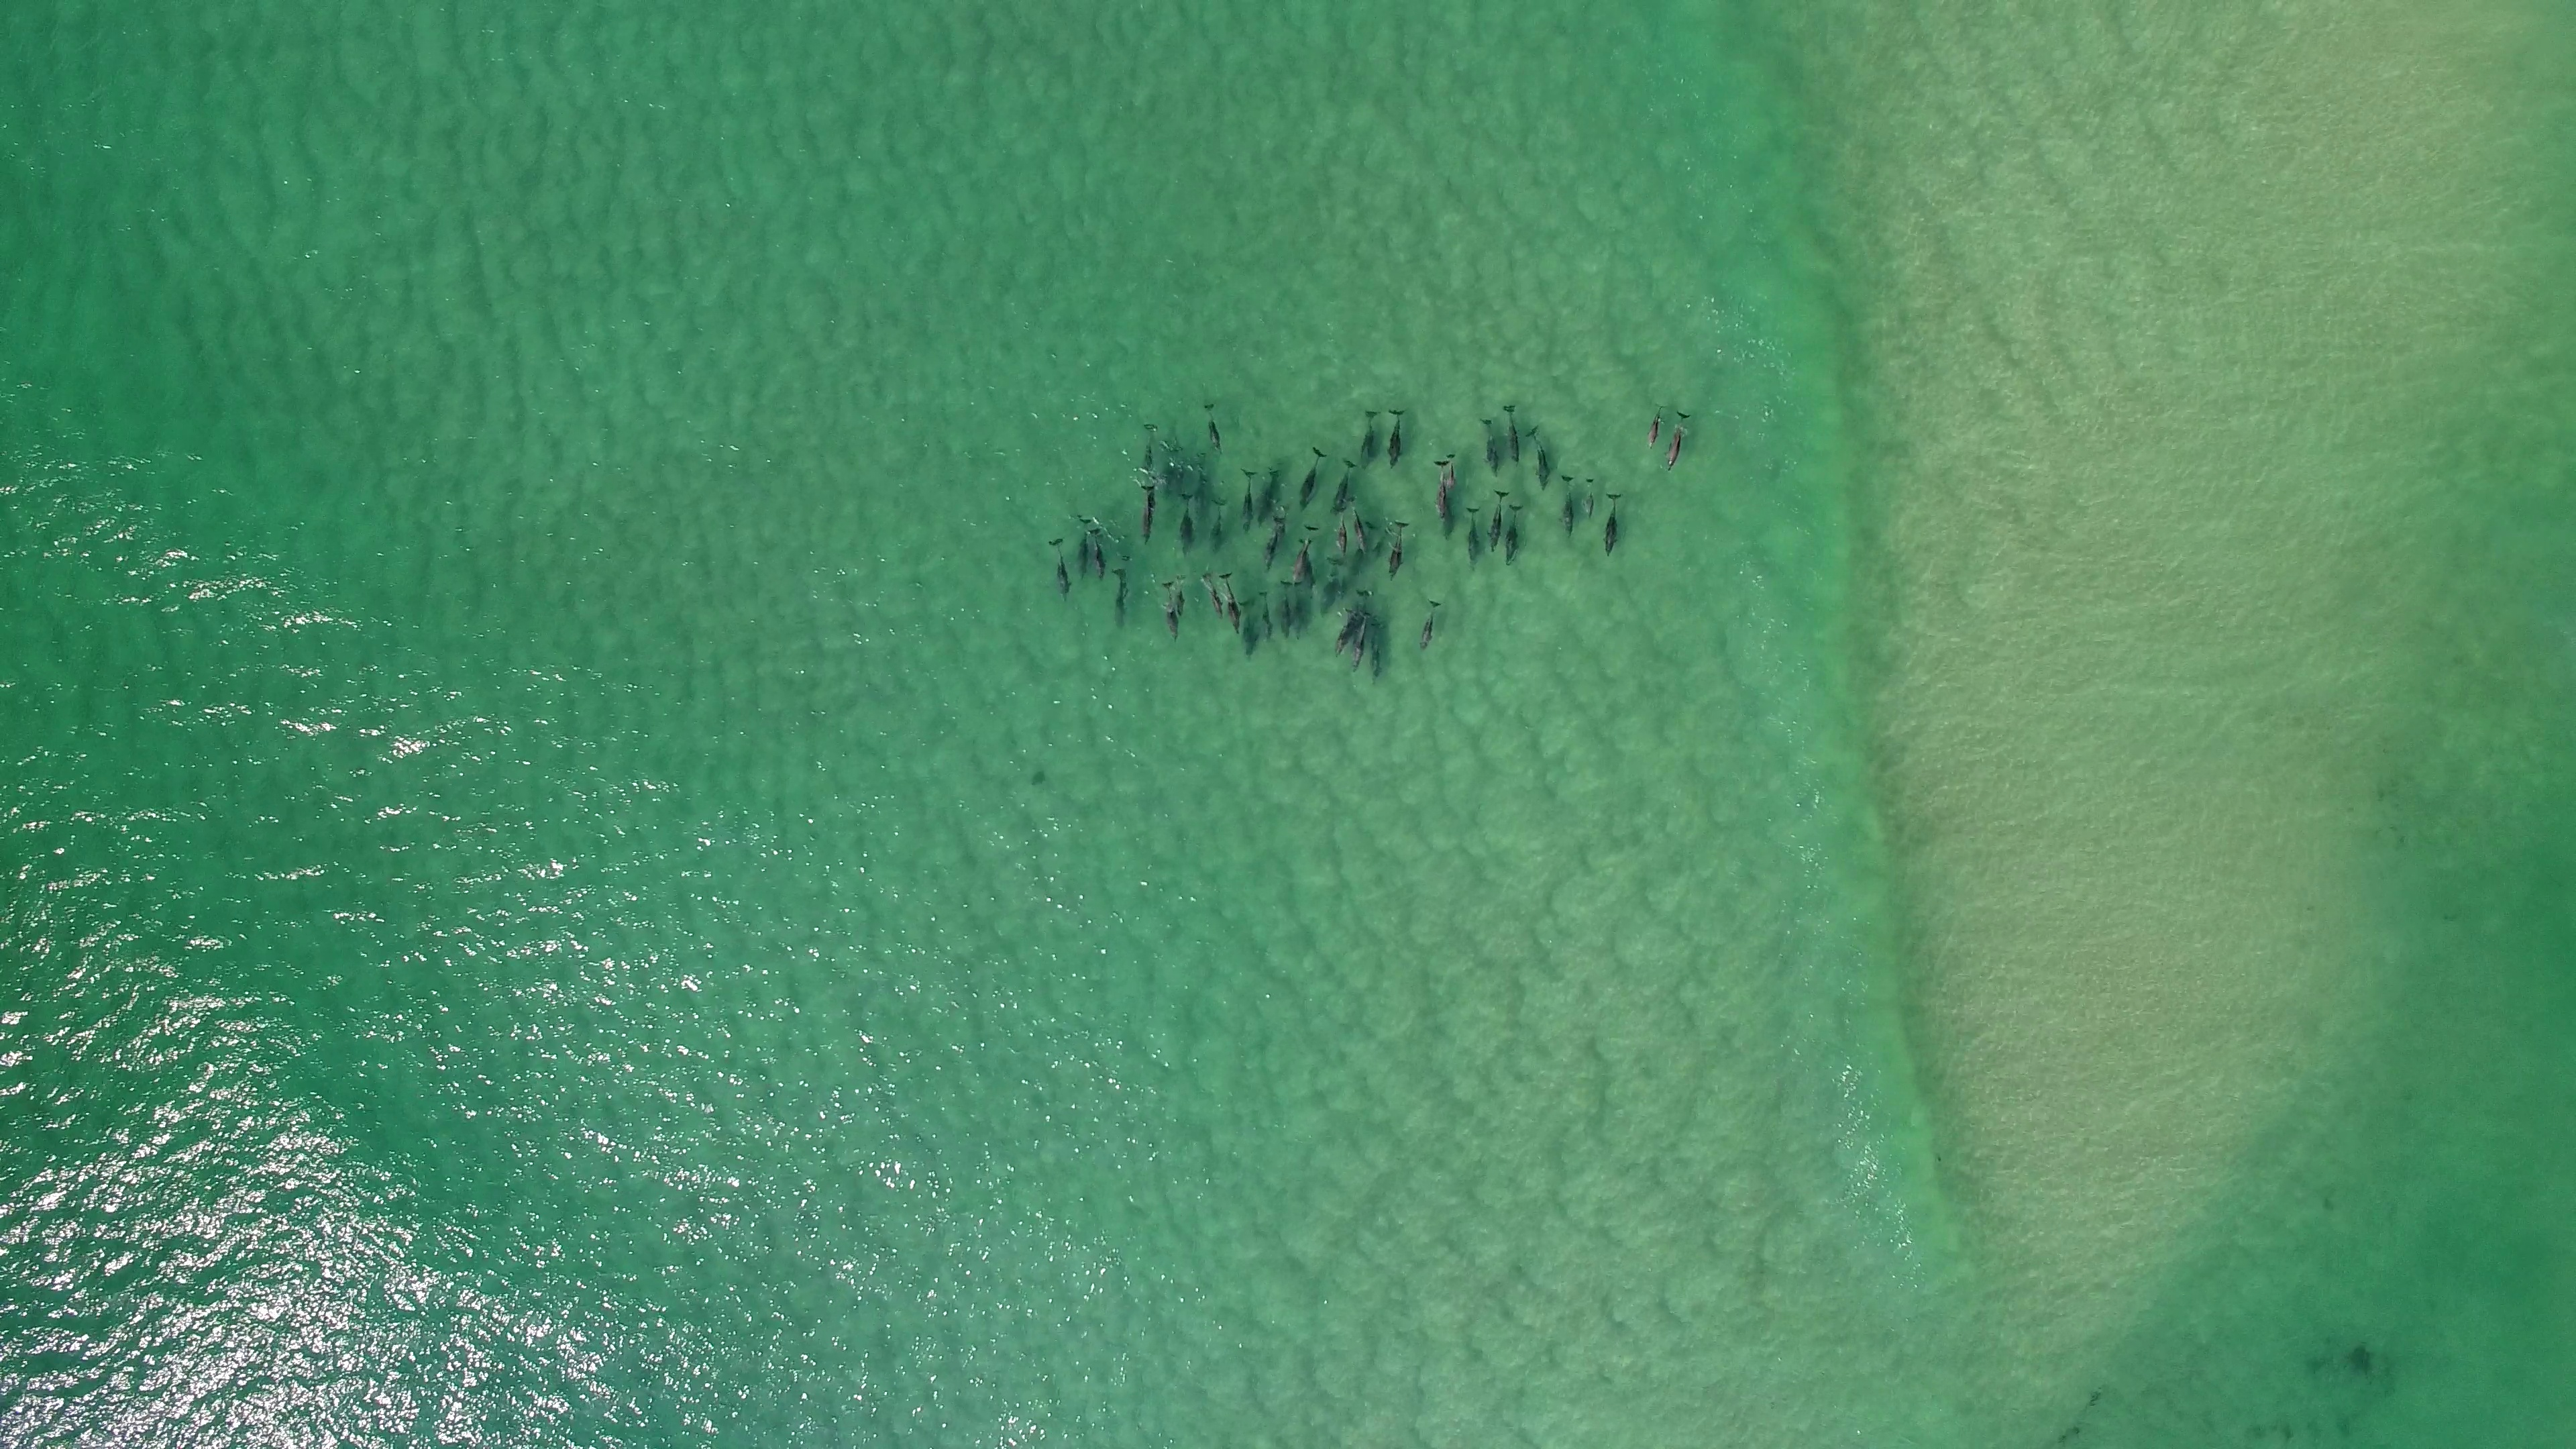dolphin: (1297, 448, 1329, 515), (1290, 522, 1318, 587), (1217, 571, 1244, 637), (1047, 538, 1072, 605), (1667, 409, 1693, 471), (1499, 402, 1523, 467), (1601, 488, 1624, 557), (1258, 465, 1284, 524), (1502, 499, 1525, 566), (1109, 566, 1132, 630), (1235, 596, 1258, 660), (1261, 517, 1288, 571), (1330, 455, 1355, 513), (1334, 607, 1361, 660), (1486, 487, 1507, 552), (1527, 428, 1550, 488), (1359, 409, 1382, 469), (1201, 400, 1226, 455), (1479, 416, 1500, 478), (1159, 580, 1180, 642), (1355, 605, 1373, 678), (1368, 617, 1389, 678), (1387, 518, 1408, 579), (1352, 518, 1375, 573), (1175, 492, 1194, 556), (1074, 511, 1092, 580), (1465, 502, 1481, 579), (1433, 458, 1449, 534), (1419, 598, 1442, 649), (1645, 398, 1668, 448), (1200, 573, 1224, 619), (1138, 483, 1155, 547), (1322, 552, 1339, 616), (1088, 527, 1108, 584), (1238, 465, 1253, 541), (1387, 405, 1403, 472), (1290, 582, 1307, 640), (1141, 419, 1157, 483), (1560, 471, 1575, 541), (1208, 497, 1226, 554), (1258, 589, 1276, 642), (1332, 506, 1350, 556), (1279, 584, 1292, 644), (1173, 571, 1187, 619), (1350, 510, 1366, 552), (1582, 474, 1596, 520), (1445, 448, 1458, 495)
